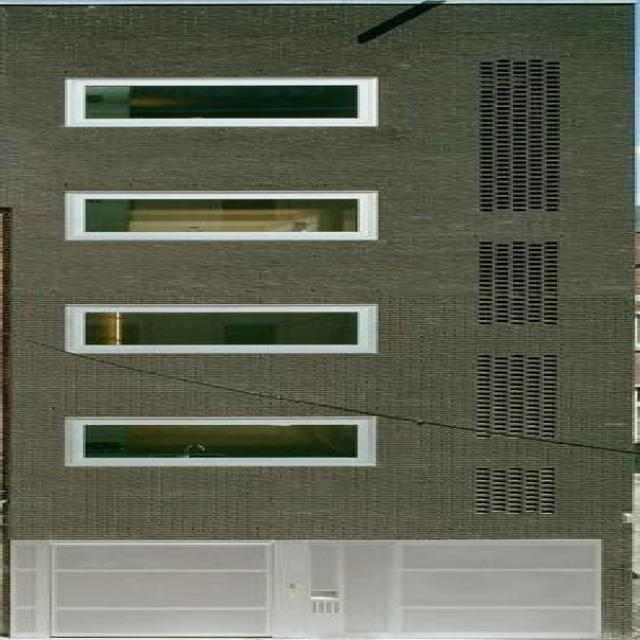door: (7, 538, 604, 639)
wall: (7, 8, 636, 638)
windows: (70, 193, 382, 242), (81, 81, 378, 129), (73, 307, 381, 353), (72, 419, 380, 465)
